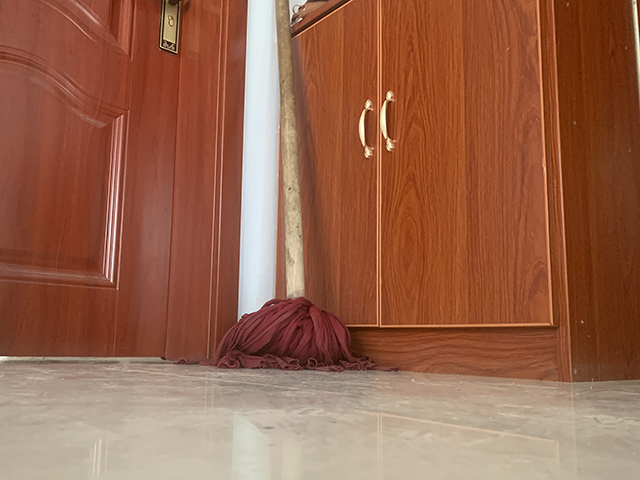cabinet: (273, 1, 639, 384)
